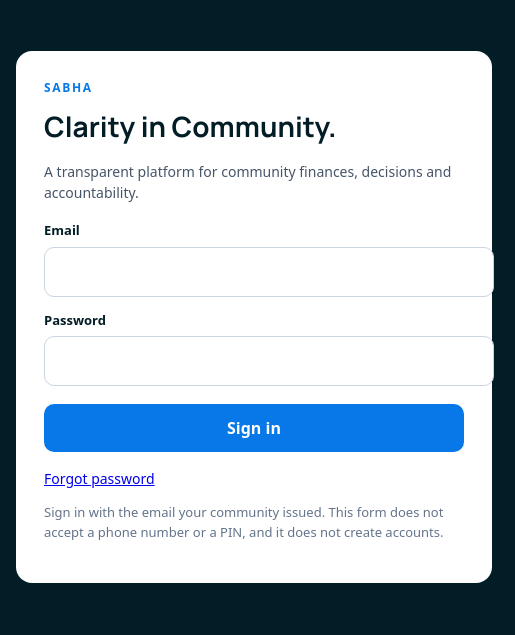
Test case: a network failure stays specific and releases the button
This screenshot has width=515, height=635.
Step 1. Type "asha@example.com" into the field labelled "Email" → [269, 272], box top-left (44, 246), bottom-right (494, 296)
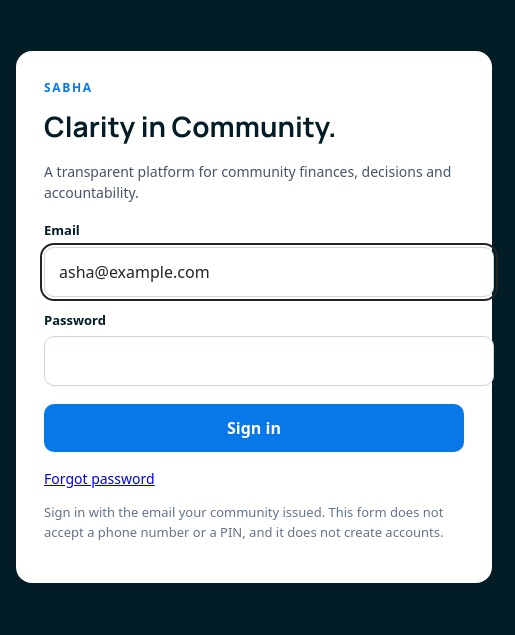
Step 2. Type "long-enough" into the password field labelled "Password" → [269, 361], box top-left (44, 336), bottom-right (494, 386)
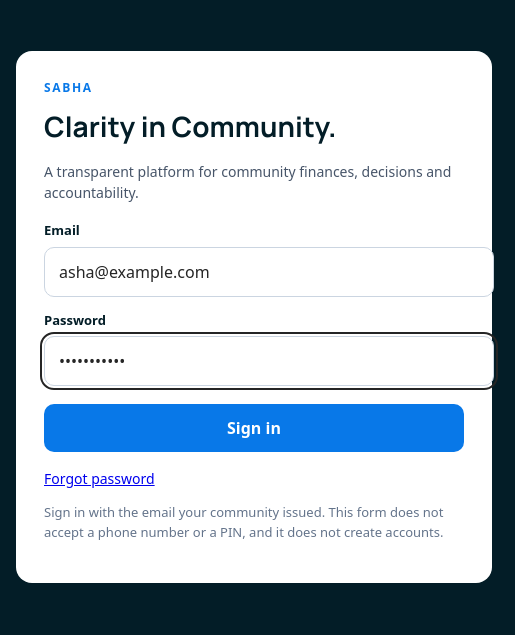
Step 3. Click the button "Sign in" → [254, 428], box top-left (44, 404), bottom-right (464, 452)
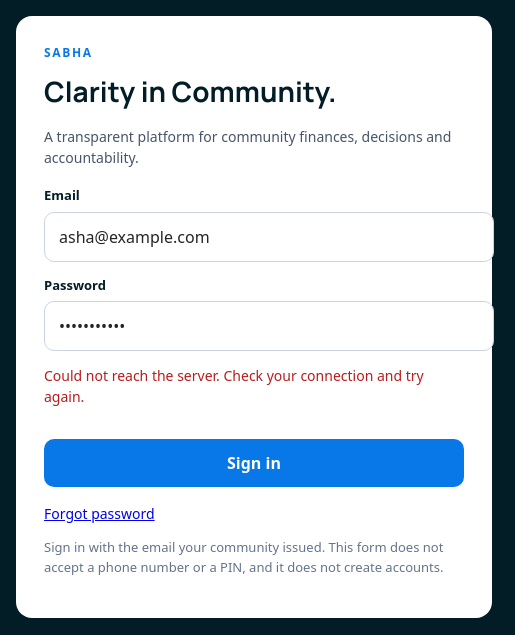
Check: the button "Sign in" is enabled, box top-left (44, 439), bottom-right (464, 487)
Check: the message reads "Could not reach the server. Check your connection and try again.", box top-left (44, 366), bottom-right (424, 406)
